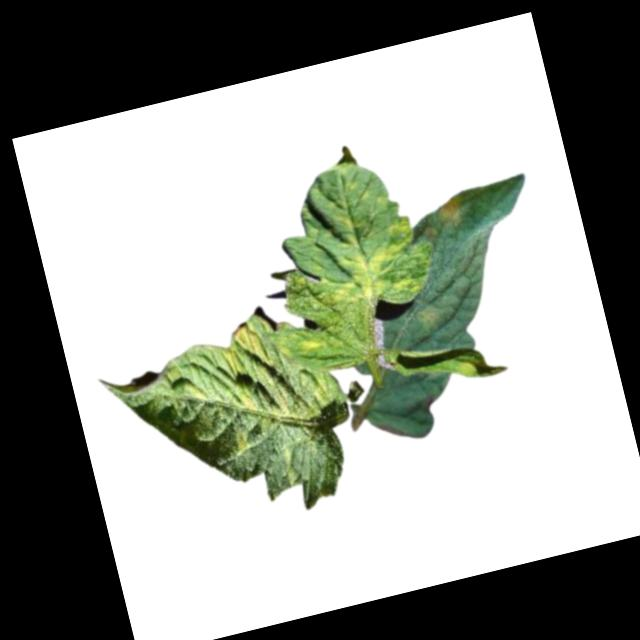Leaf_Mold: (292, 144, 438, 320), (212, 312, 301, 419), (432, 193, 465, 228), (293, 326, 330, 357), (414, 298, 444, 329), (229, 424, 254, 454)
